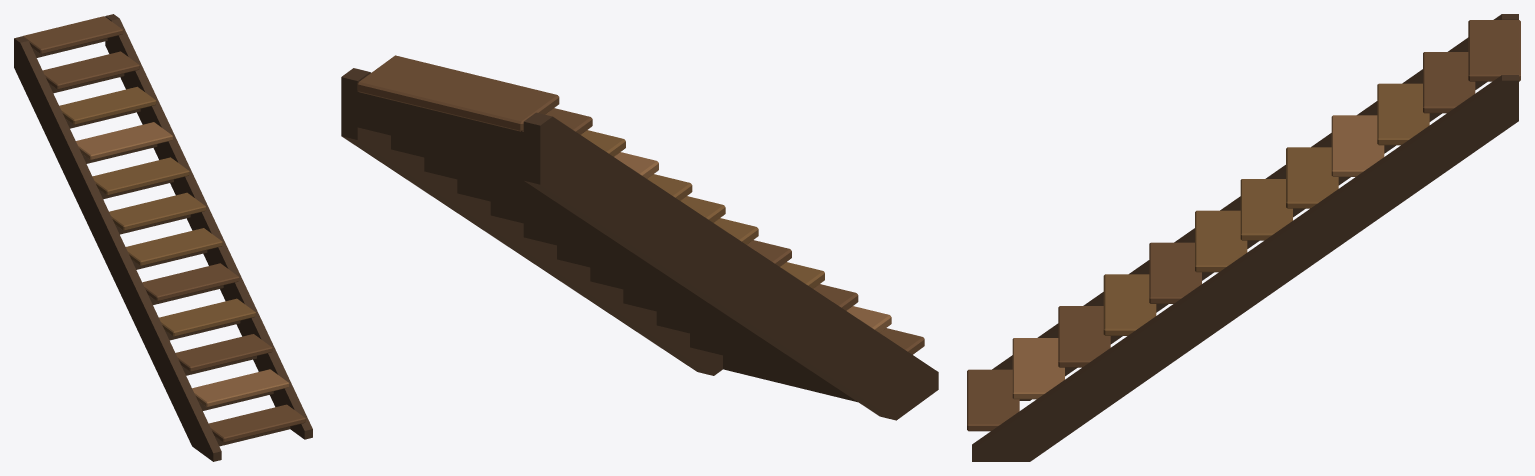
Rendered from mdvl_village_stair_wood_01.glb.
3 renders of one model, left to right at view 1: azimuth 30°, elevation 25°; view 2: azimuth 150°, elevation 25°; view 3: azimuth 270°, elevation 25°, orthographic. The views are drawn at different scales.
Visible parts, largest first — view 1: mdvl_village_stair_wood_01; view 2: mdvl_village_stair_wood_01; view 3: mdvl_village_stair_wood_01.
Part boxes in pixels (x1,y1,x2,y2): mdvl_village_stair_wood_01: (14, 14, 312, 461); mdvl_village_stair_wood_01: (341, 55, 938, 420); mdvl_village_stair_wood_01: (967, 14, 1520, 461).
Bounding box in the file's own units: 0.9 × 2.4 × 3.16.
Materials: 1 (1 with a texture image).
